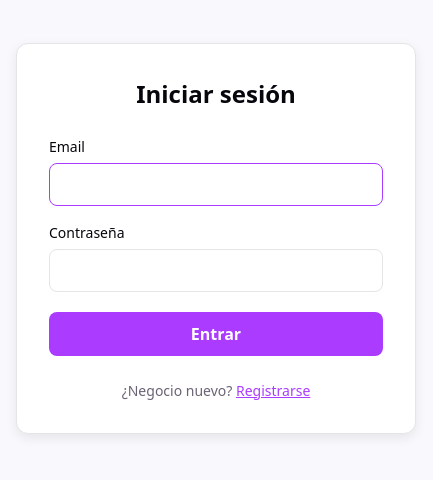
Test: los mensajes que ya existían siguen igual
Type "ana@test.com" into the field labelled "Email".
click(216, 184); type("ana@test.com")  # box [49,162,383,206]
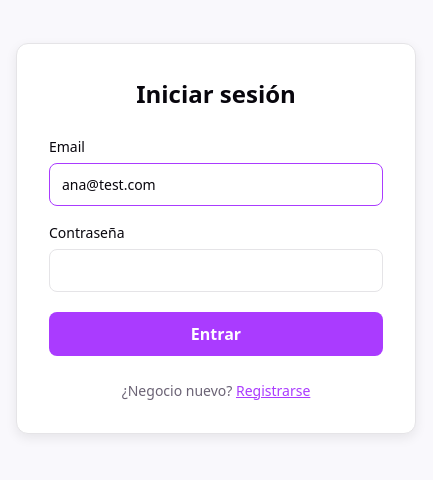
Type "clave-incorrecta" into the password field labelled "Contraseña".
click(216, 270); type("clave-incorrecta")  # box [49,248,383,292]
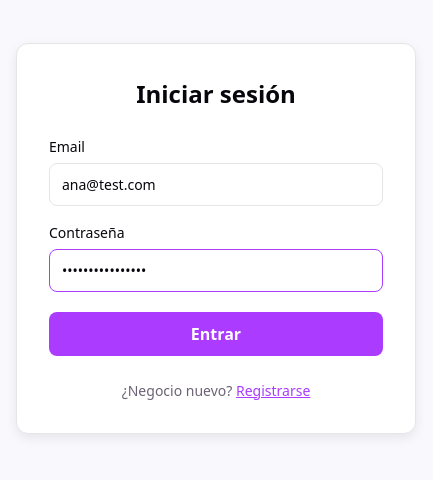
Click the button "Entrar".
click(216, 334)  # box [49,312,383,356]
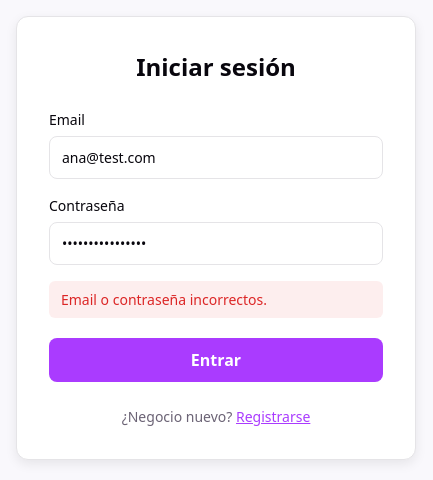
Expected: the text "Email o contraseña incorrectos." is shown, [49,281,383,318]
